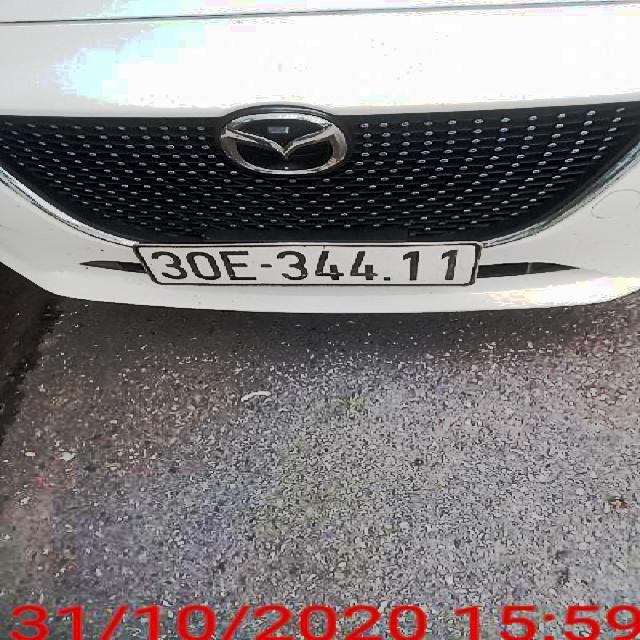license_plate: (136, 243, 481, 289)
